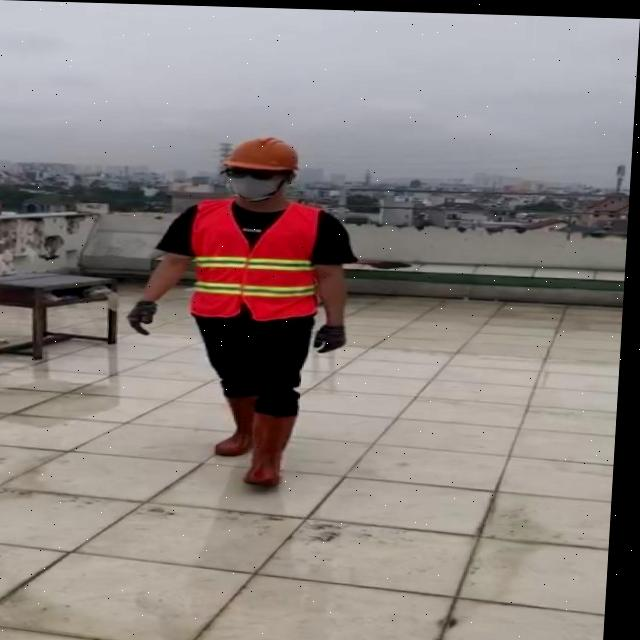Gloves: (131, 298, 162, 334), (318, 321, 352, 351)
Safety-Boot: (250, 408, 302, 485), (221, 392, 264, 455)
Safety-Vest: (190, 195, 328, 321)
